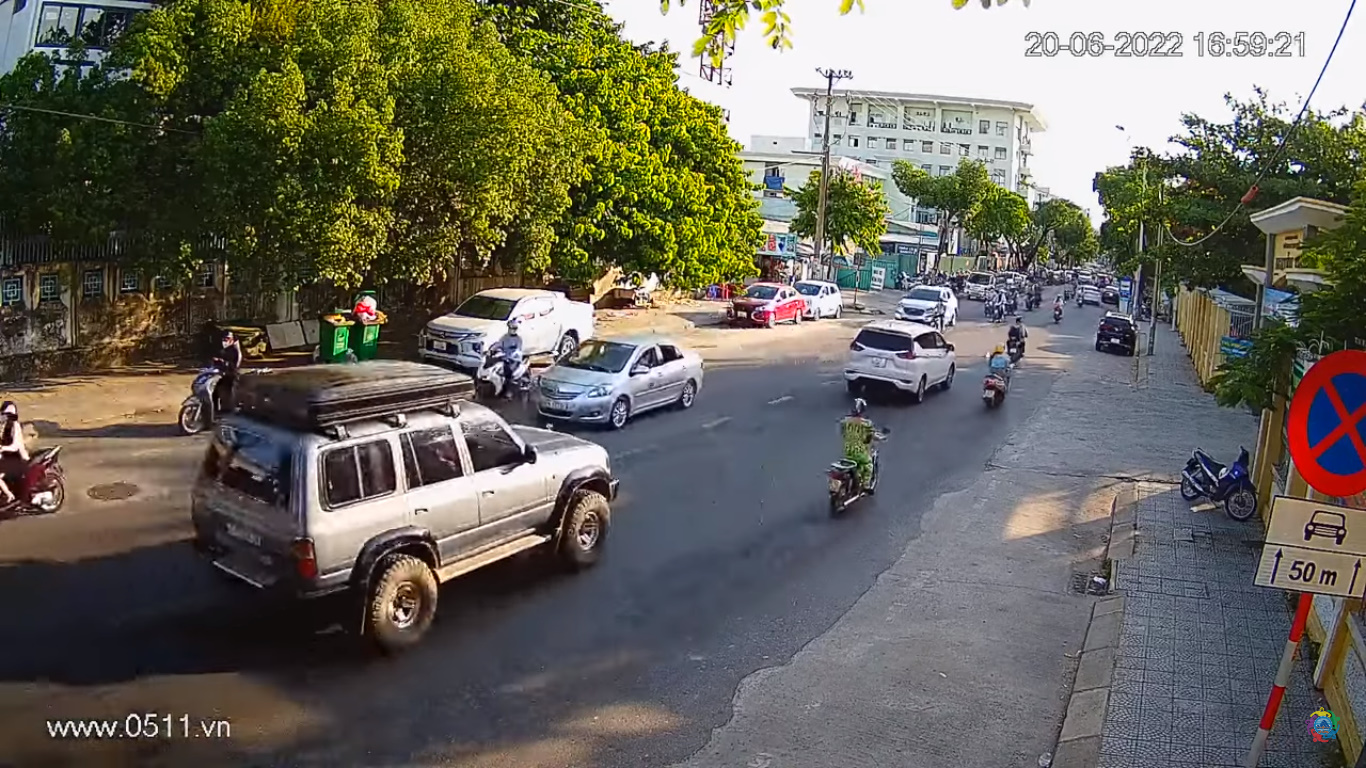car: (197, 364, 624, 641), (544, 344, 708, 425), (850, 312, 956, 408)
